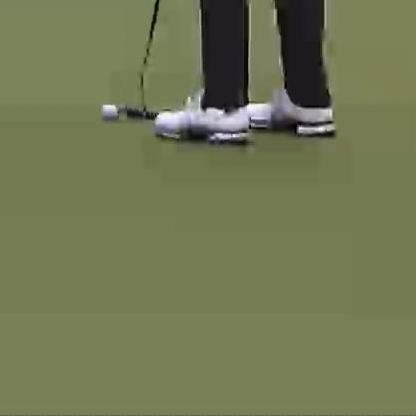golfball: (99, 103, 116, 121)
